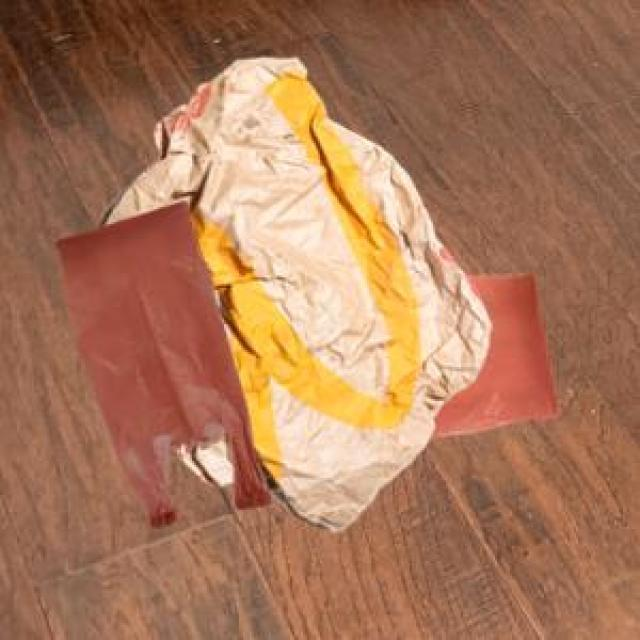paper: (96, 53, 486, 527)
